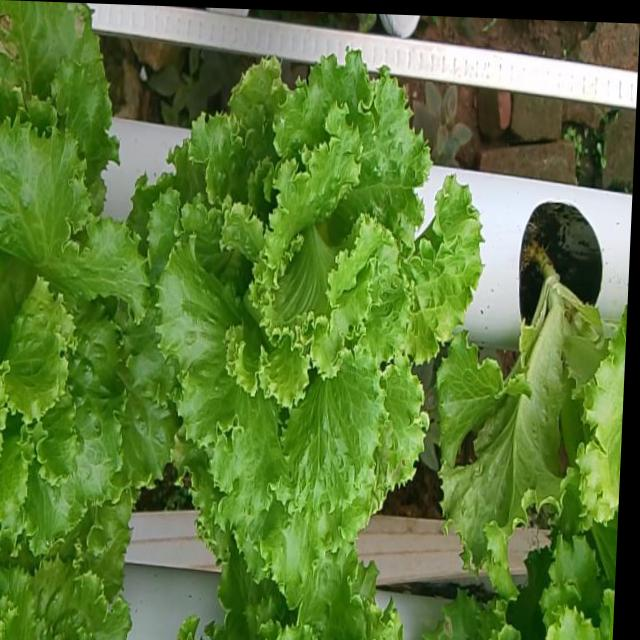Mature: (156, 34, 490, 571), (0, 97, 182, 542)
